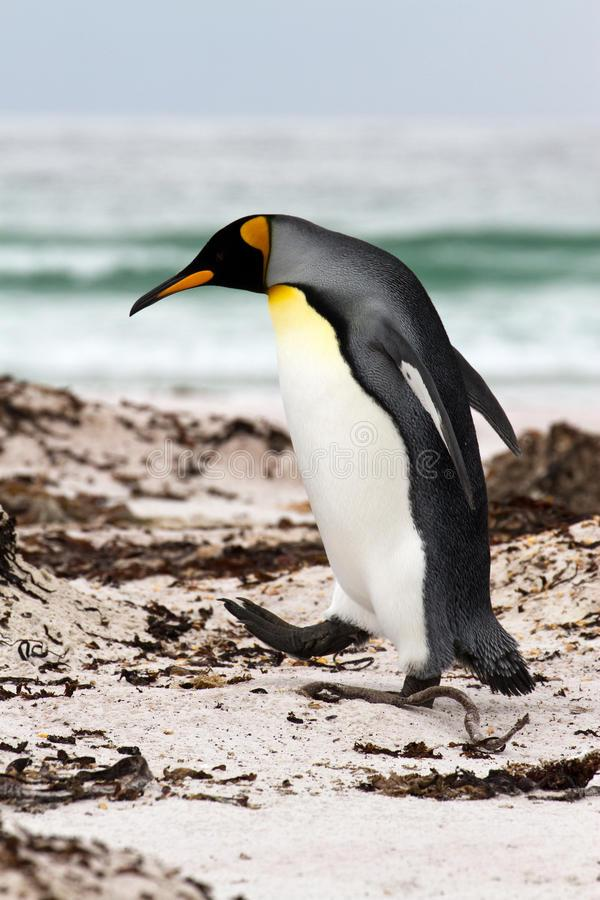king: (113, 186, 559, 734)
